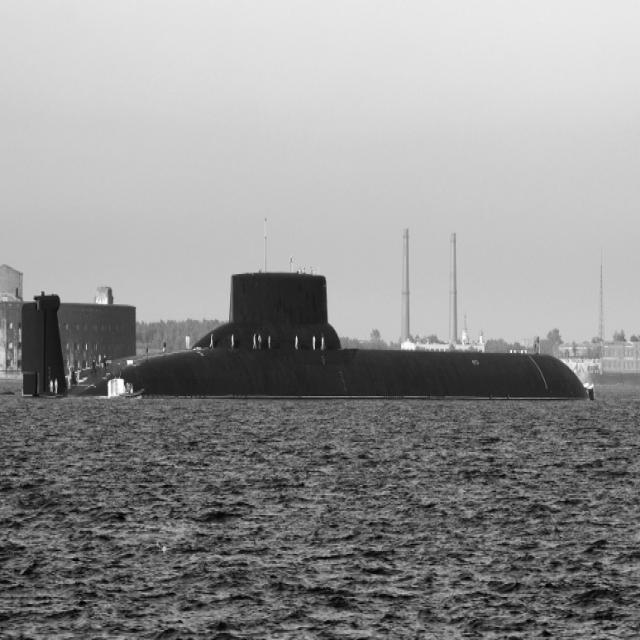submarine: (22, 272, 586, 397)
